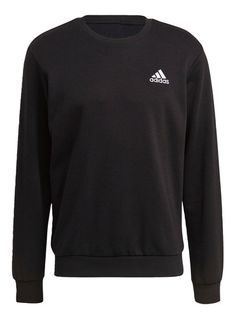adidas Originale: (143, 66, 177, 88)
